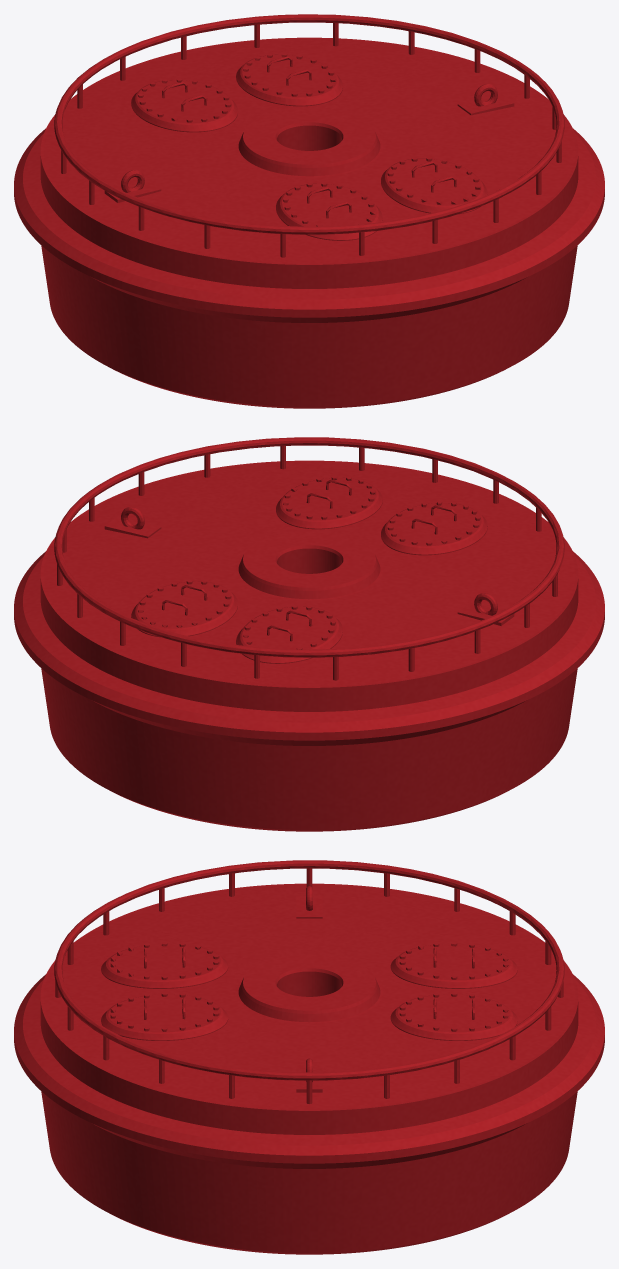
Rendered from NEW694_MooringBuoy_LOD2.fbx.
The picture shows the model from 3 angles, top to bottom: view 1: azimuth 30°, elevation 25°; view 2: azimuth 150°, elevation 25°; view 3: azimuth 270°, elevation 25°; orthographic projection.
Visible parts, largest first — view 1: Buoy_body_integral_closed_hatches_central_through_bore, Four_closed_oval_hatch_covers_seated_on_deck, Low_circular_rail_and_twenty_attached_supports, Four_hatch_bolt_sets_and_eight_grab_handles, Two_lifting_eye_assemblies_with_attached_baseplates; view 2: Buoy_body_integral_closed_hatches_central_through_bore, Four_closed_oval_hatch_covers_seated_on_deck, Low_circular_rail_and_twenty_attached_supports, Four_hatch_bolt_sets_and_eight_grab_handles, Two_lifting_eye_assemblies_with_attached_baseplates; view 3: Buoy_body_integral_closed_hatches_central_through_bore, Four_closed_oval_hatch_covers_seated_on_deck, Low_circular_rail_and_twenty_attached_supports, Four_hatch_bolt_sets_and_eight_grab_handles, Two_lifting_eye_assemblies_with_attached_baseplates.
Boxes of the visible parts, x1,y1,x2,y2 form: Buoy_body_integral_closed_hatches_central_through_bore: (14, 37, 604, 408); Four_closed_oval_hatch_covers_seated_on_deck: (131, 54, 487, 240); Low_circular_rail_and_twenty_attached_supports: (54, 14, 564, 257); Four_hatch_bolt_sets_and_eight_grab_handles: (138, 53, 480, 226); Two_lifting_eye_assemblies_with_attached_baseplates: (104, 84, 514, 202); Buoy_body_integral_closed_hatches_central_through_bore: (14, 460, 604, 831); Four_closed_oval_hatch_covers_seated_on_deck: (131, 477, 487, 663); Low_circular_rail_and_twenty_attached_supports: (54, 437, 564, 680); Four_hatch_bolt_sets_and_eight_grab_handles: (138, 476, 480, 649); Two_lifting_eye_assemblies_with_attached_baseplates: (104, 507, 514, 625); Buoy_body_integral_closed_hatches_central_through_bore: (14, 883, 604, 1254); Four_closed_oval_hatch_covers_seated_on_deck: (101, 944, 517, 1040); Low_circular_rail_and_twenty_attached_supports: (54, 860, 564, 1103); Four_hatch_bolt_sets_and_eight_grab_handles: (110, 942, 508, 1031); Two_lifting_eye_assemblies_with_attached_baseplates: (296, 886, 322, 1092).
Bounding box in the file's own units: 2 × 0.6733 × 2.
1 material, 1 textured.
